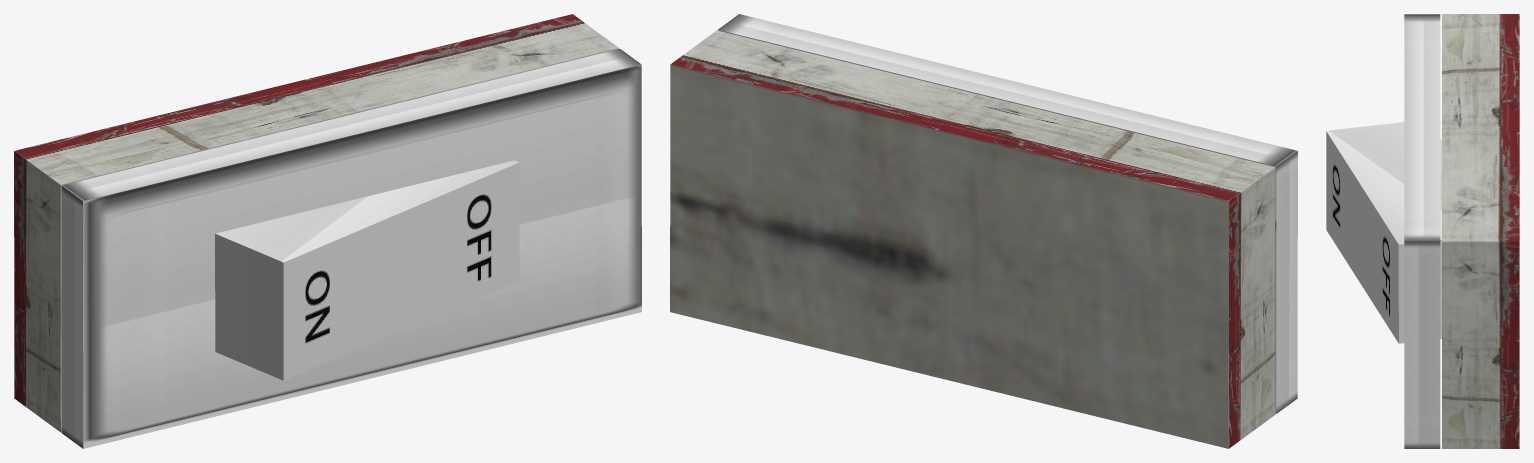
The model's file is switch on.fbx.
3 renders of one model, left to right at view 1: azimuth 30°, elevation 25°; view 2: azimuth 150°, elevation 25°; view 3: azimuth 270°, elevation 25°, orthographic. The views are drawn at different scales.
Parts seen in each view (by area): view 1: pasted__switch3, pasted__switch2; view 2: pasted__switch3; view 3: pasted__switch3, pasted__switch2.
Part boxes in pixels (x1,y1,x2,y2): pasted__switch3: (14,14,641,448); pasted__switch2: (215,160,519,380); pasted__switch3: (670,14,1297,448); pasted__switch3: (1404,14,1519,448); pasted__switch2: (1326,122,1441,343).
Size of the model in its own units: 4.59 by 1.95 by 1.65.
Materials: 3 (3 with a texture image).
